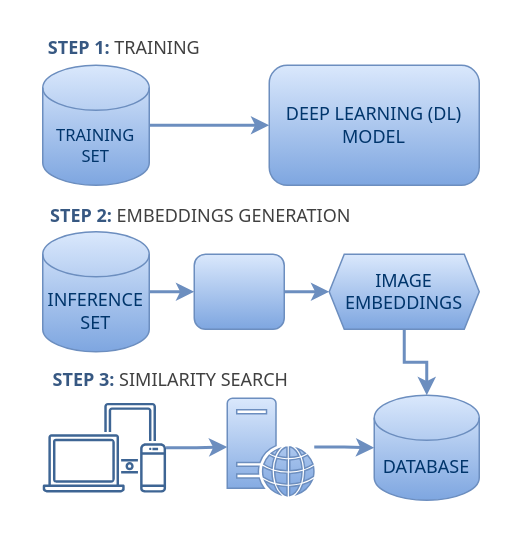
This 506x540 diagram has some shape labels left out. The shapes that lost their labels are listed below. From the top down, each one's centre as x and y in pixels, then its label:
At [238,291]: "DL MODEL".
At [270,446]: "web application".
